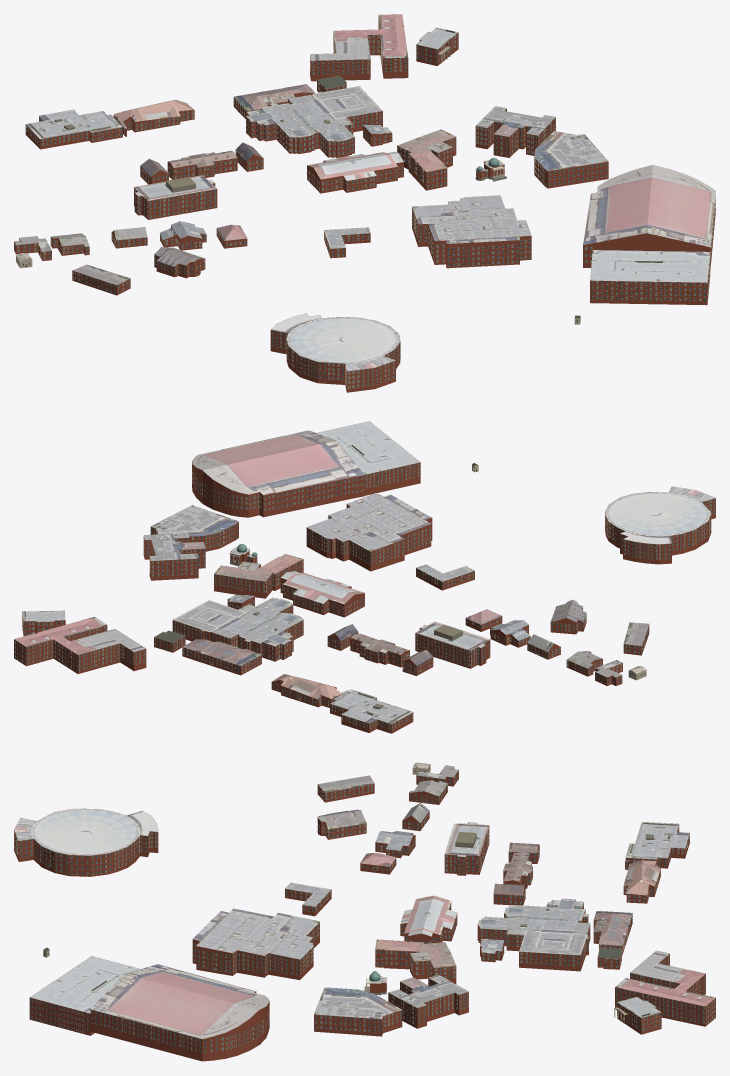
3 views of the same model, one above another, from view 1: azimuth 30°, elevation 25°; view 2: azimuth 150°, elevation 25°; view 3: azimuth 270°, elevation 25° (orthographic). The views are drawn at different scales.
Parts seen in each view (by area): view 1: -4_0_135662222_0; view 2: -4_0_135662222_0; view 3: -4_0_135662222_0.
Boxes of the visible parts, box(x1,y1,x2,y2) form: -4_0_135662222_0: box(14, 14, 715, 392); -4_0_135662222_0: box(14, 421, 715, 733); -4_0_135662222_0: box(14, 762, 715, 1061).
Size of the model in its own units: 532 by 34.65 by 557.
Materials: 19 (1 with a texture image).
